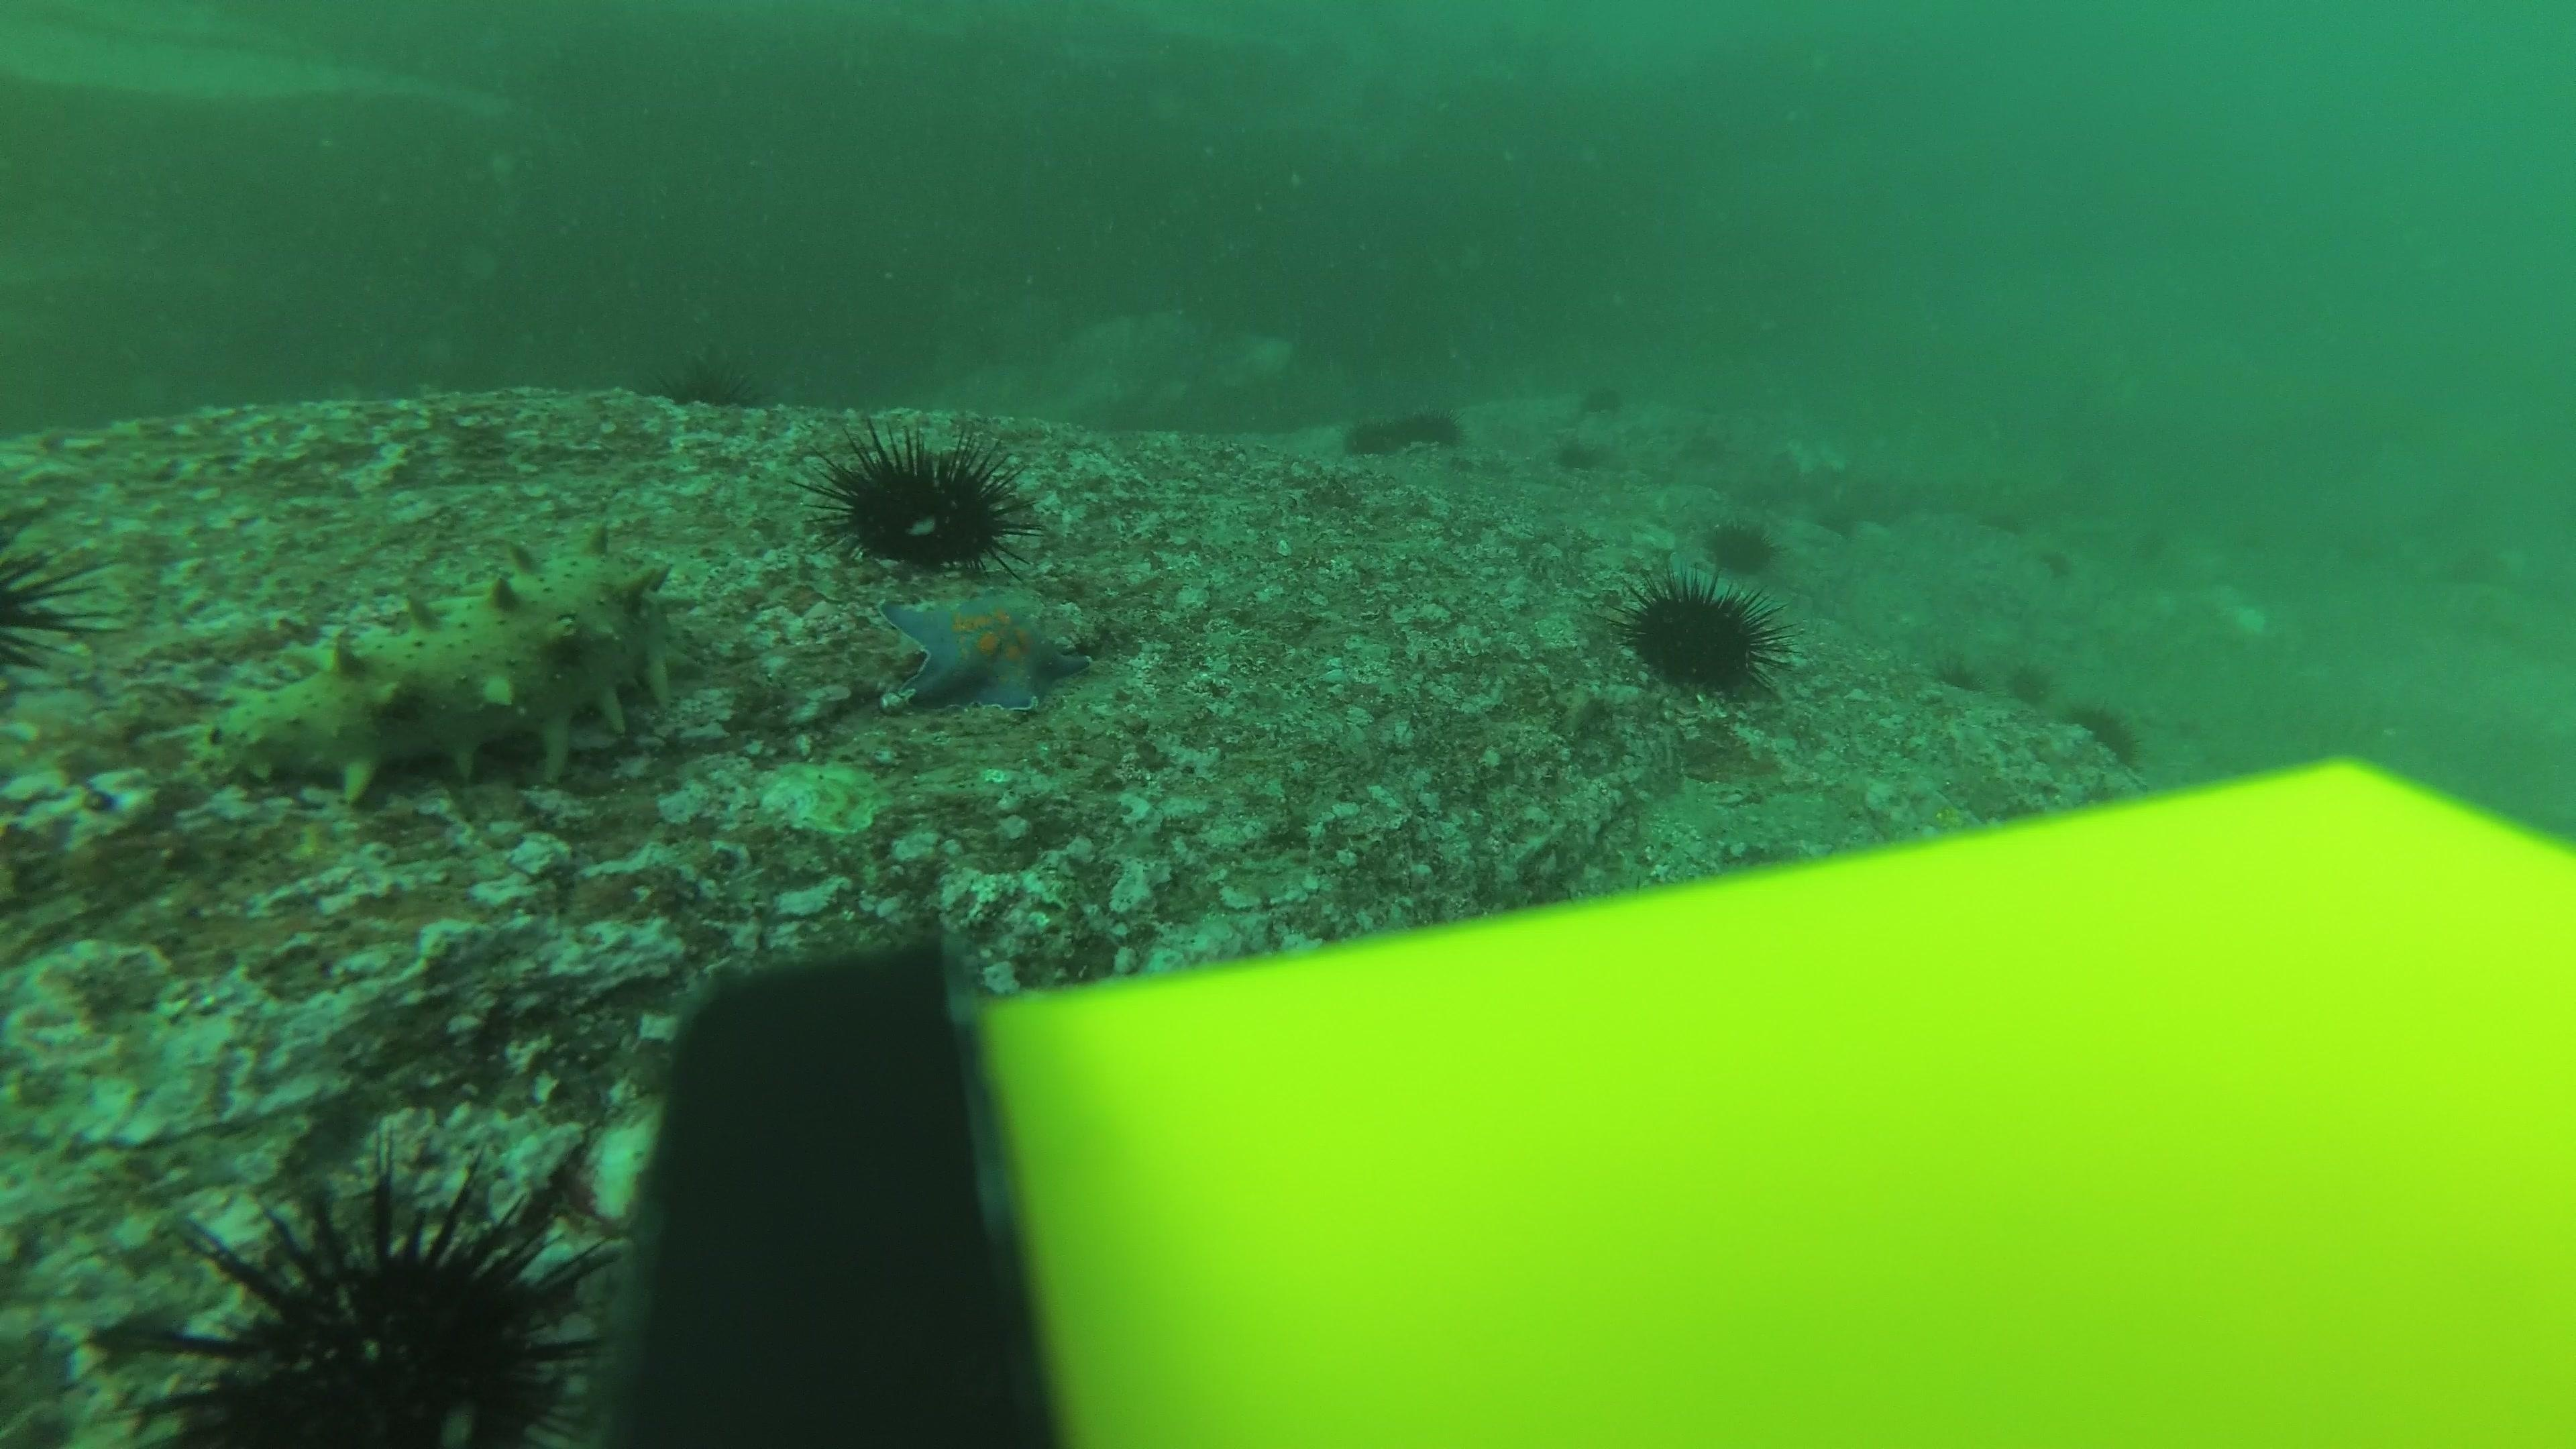echinus: (147, 1154, 616, 1440), (816, 421, 1030, 577), (1621, 570, 1783, 699), (0, 536, 111, 702), (2065, 697, 2146, 766), (671, 350, 755, 410), (1702, 511, 1780, 575), (1407, 398, 1467, 451), (1343, 409, 1403, 460), (1568, 379, 1626, 428), (1546, 432, 1605, 481), (1927, 644, 1985, 694), (2024, 548, 2082, 598), (2005, 656, 2056, 708)
holothurian: (211, 536, 697, 805)
starfish: (874, 580, 1097, 720)
